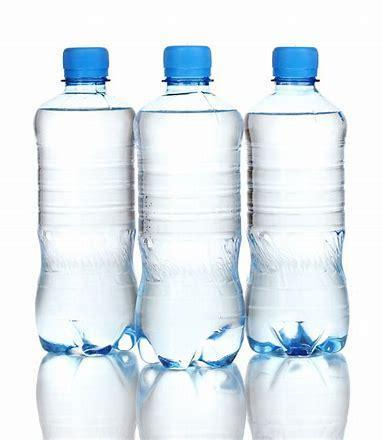bottle: (137, 38, 244, 370), (32, 36, 135, 360), (247, 36, 348, 357)
